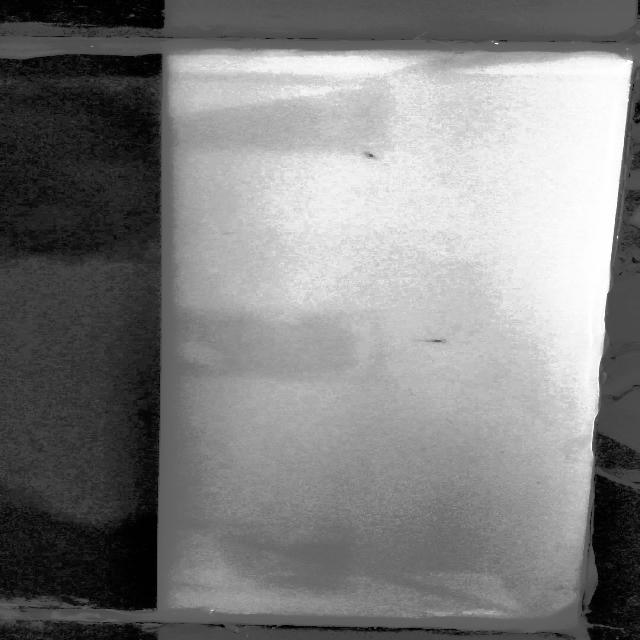shrimp: (422, 334, 454, 346), (361, 148, 386, 163)
